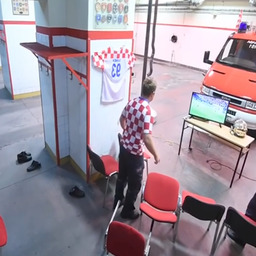person: (114, 77, 161, 219)
